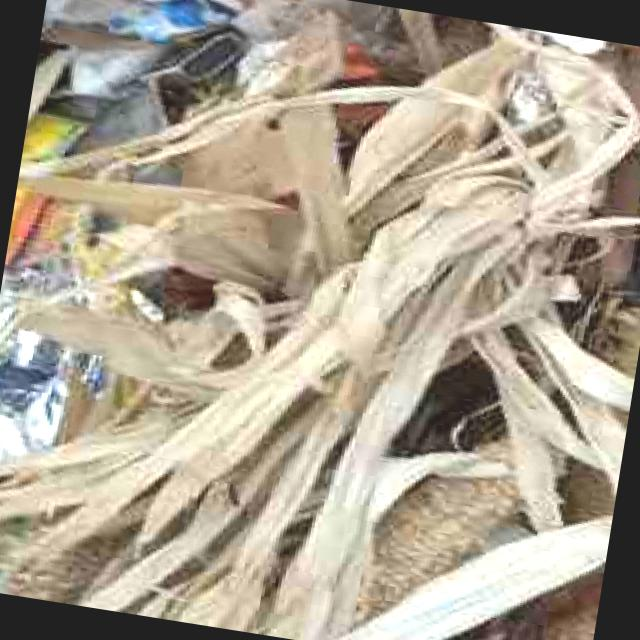rac_huu_co: (0, 35, 640, 640)
